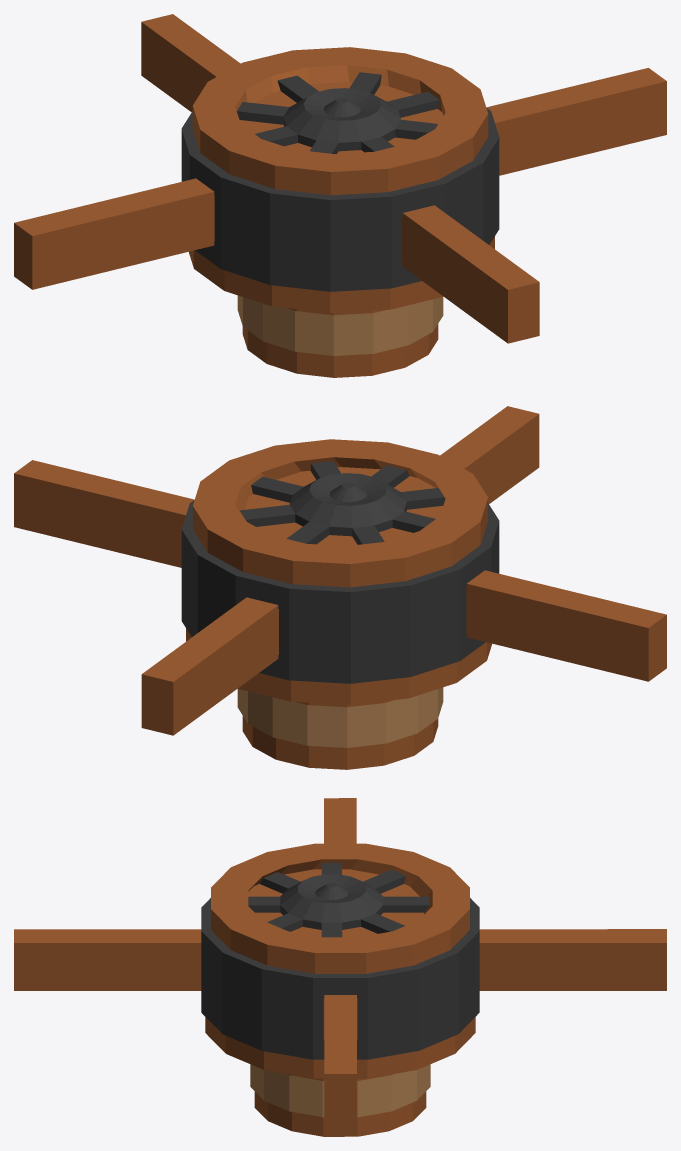
File: Capstan.fbx
3 views of the same model, one above another, from view 1: azimuth 30°, elevation 25°; view 2: azimuth 150°, elevation 25°; view 3: azimuth 270°, elevation 25° (orthographic). The views are drawn at different scales.
Visible parts, largest first — view 1: Capstan; view 2: Capstan; view 3: Capstan.
Part boxes in pixels (box(x1,y1,x2,y2)): Capstan: box(14, 14, 666, 377); Capstan: box(14, 406, 666, 769); Capstan: box(14, 798, 666, 1136).
Bounding box in the file's own units: 454 × 164 × 454.
